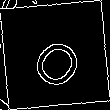O_NE: (22, 21, 88, 89)
